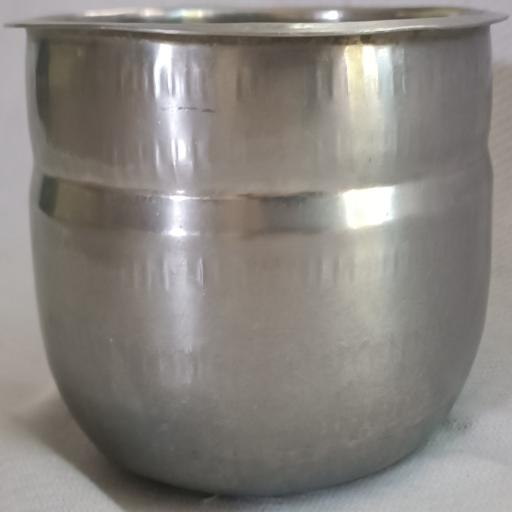vessel: (18, 8, 502, 494)
